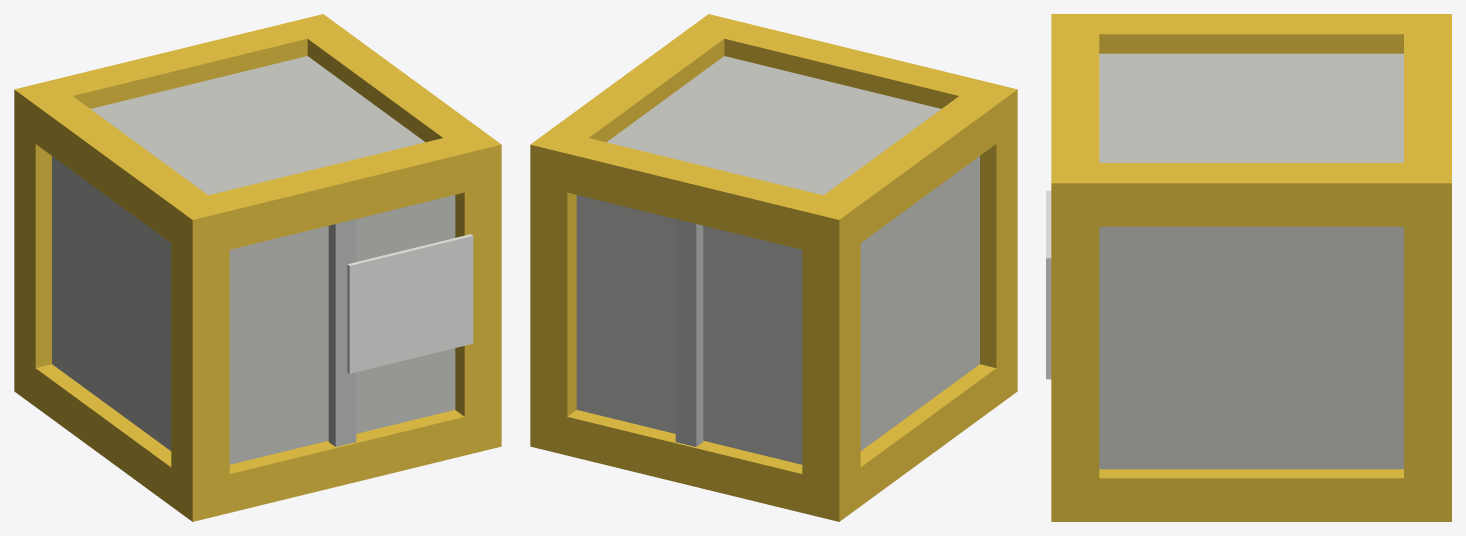
File: kit_crate_s.glb
3 renders of one model, left to right at view 1: azimuth 30°, elevation 25°; view 2: azimuth 150°, elevation 25°; view 3: azimuth 270°, elevation 25°, orthographic. The views are drawn at different scales.
Visible parts, largest first — view 1: frame.002, body.003, label.003, ribs.002; view 2: frame.002, body.003, ribs.002; view 3: body.003, frame.002, label.003.
Part boxes in pixels (x1,y1,x2,y2): frame.002: [14, 14, 501, 521]; body.003: [52, 56, 455, 464]; label.003: [347, 234, 473, 373]; ribs.002: [328, 219, 356, 446]; frame.002: [530, 14, 1017, 521]; body.003: [576, 56, 979, 464]; ribs.002: [675, 219, 703, 446]; body.003: [1099, 53, 1403, 469]; frame.002: [1051, 14, 1451, 521]; label.003: [1046, 190, 1051, 379].
Size of the model in its own units: 0.75 by 0.7 by 0.76.
